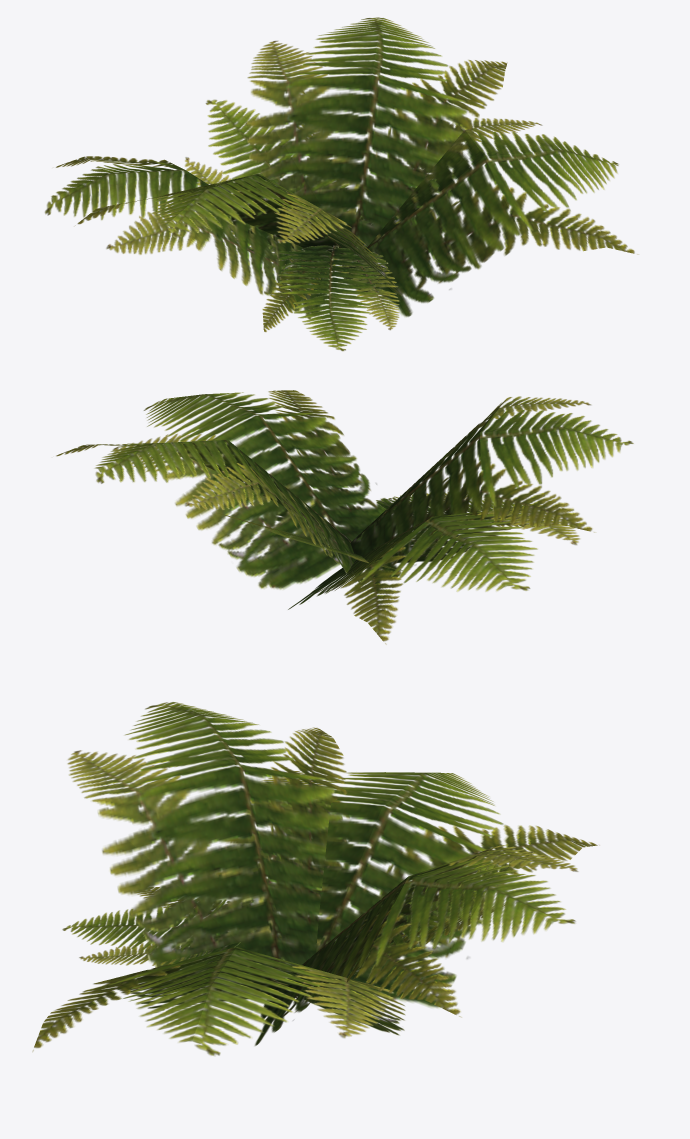
File: plant-02.glb
The picture shows the model from 3 angles, top to bottom: view 1: azimuth 30°, elevation 25°; view 2: azimuth 150°, elevation 25°; view 3: azimuth 270°, elevation 25°; orthographic projection. The views are drawn at different scales.
Visible parts, largest first — view 1: Plane; view 2: Plane; view 3: Plane.
Part boxes in pixels (x1,y1,x2,y2): Plane: (44,17,638,351); Plane: (56,390,633,644); Plane: (32,702,599,1056).
Size of the model in its own units: 5.3 by 1.58 by 4.3.
1 material, 1 textured.
